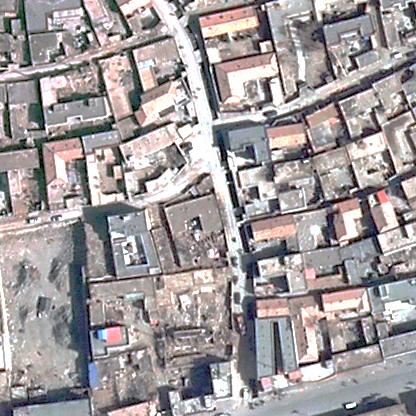collapsed: (157, 325, 238, 365), (63, 64, 101, 96), (177, 302, 227, 325), (188, 236, 226, 259)
